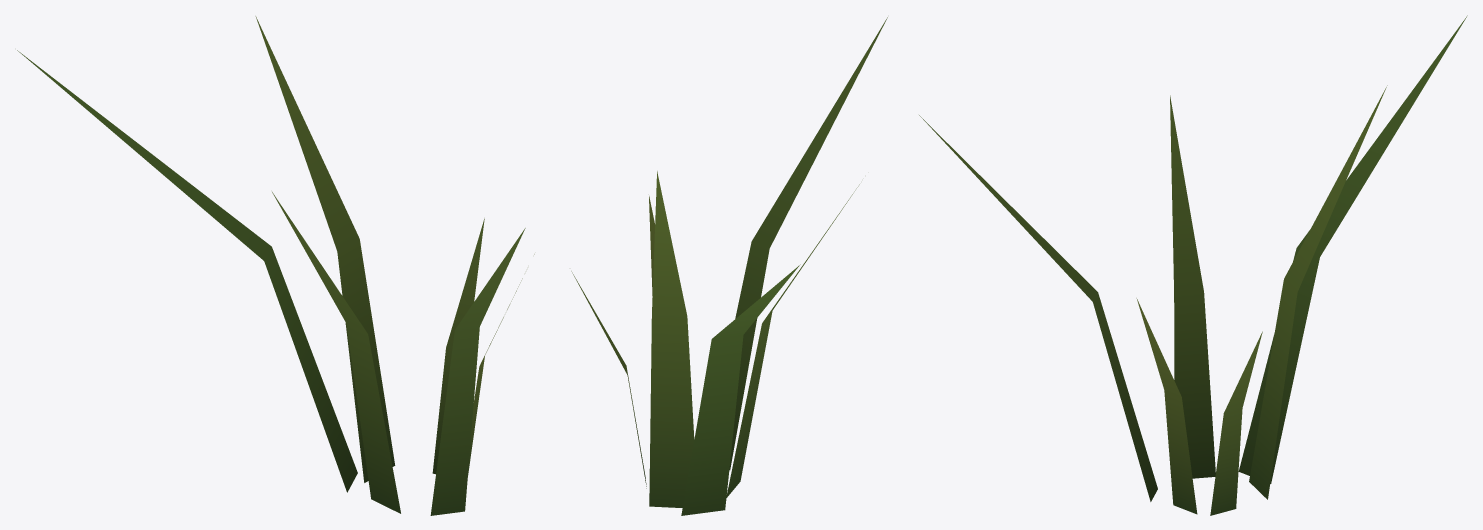
File: grass_tuft.glb
3 views of the same model, side by side, from view 1: azimuth 30°, elevation 25°; view 2: azimuth 150°, elevation 25°; view 3: azimuth 270°, elevation 25° (orthographic). The views are drawn at different scales.
Parts seen in each view (by area): view 1: grass_tuft; view 2: grass_tuft; view 3: grass_tuft.
Boxes of the visible parts, <box> form: grass_tuft: <box>17,16,534,515</box>; grass_tuft: <box>571,17,887,515</box>; grass_tuft: <box>919,15,1467,515</box>.
Size of the model in its own units: 0.3116 by 0.351 by 0.4571.
